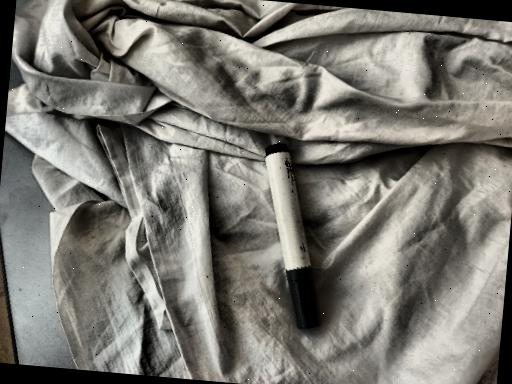marcador negro: (265, 142, 321, 329)
